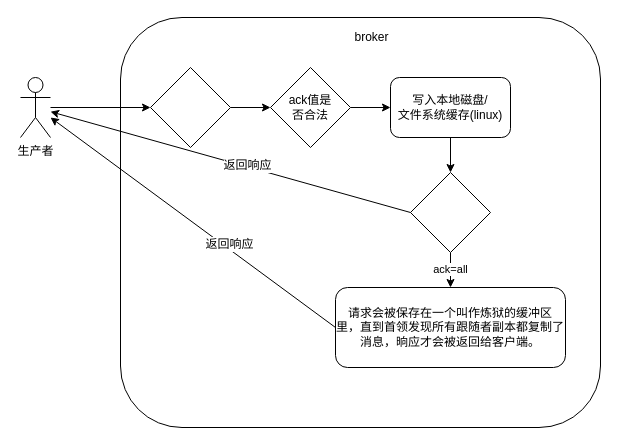
The diagram is 618 pixels wide and 445 high, and some of its shapes have lost their labels. Here are the shapes that lost their labels. From the top down, the box of each, then its label:
(150, 66, 230, 148): 是否有权限写入topic
(410, 172, 490, 252): ack=1/0
